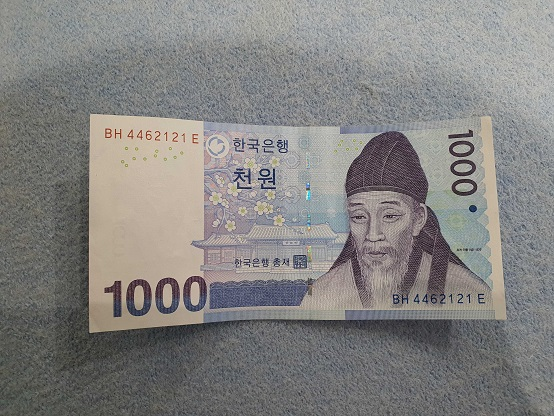1000won: (86, 113, 507, 330)
